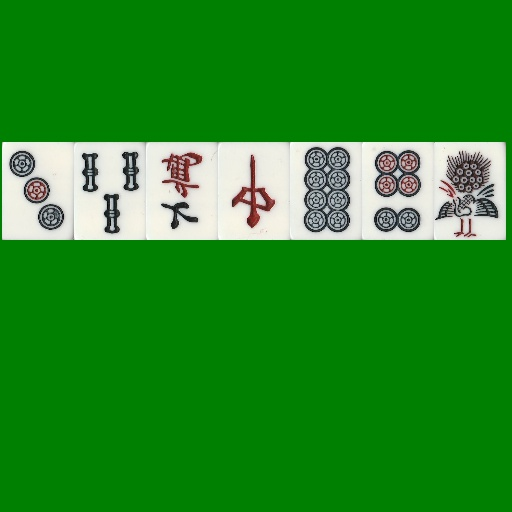1s: (434, 142, 506, 240)
3p: (2, 142, 74, 240)
3s: (74, 142, 146, 240)
6p: (362, 142, 434, 240)
7m: (146, 142, 218, 240)
8p: (290, 142, 362, 240)
tyun: (218, 142, 290, 240)
